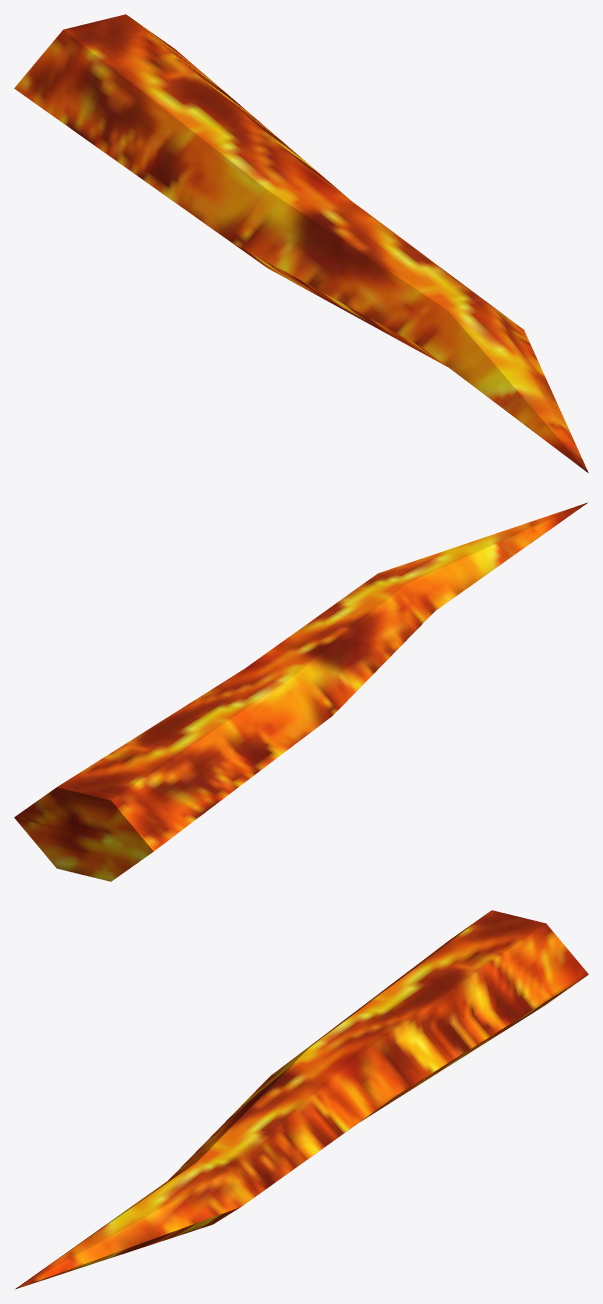
The model's file is cinderblade.obj.
3 views of the same model, one above another, from view 1: azimuth 30°, elevation 25°; view 2: azimuth 150°, elevation 25°; view 3: azimuth 330°, elevation 25° (orthographic). The views are drawn at different scales.
Visible parts, largest first — view 1: Base; view 2: Base; view 3: Base.
Part boxes in pixels (x1=…): Base: x1=14, y1=14, x2=588, y2=473; Base: x1=14, y1=502, x2=588, y2=881; Base: x1=14, y1=910, x2=588, y2=1289.
Bounding box in the file's own units: 0.2722 × 0.1512 × 1.57.
